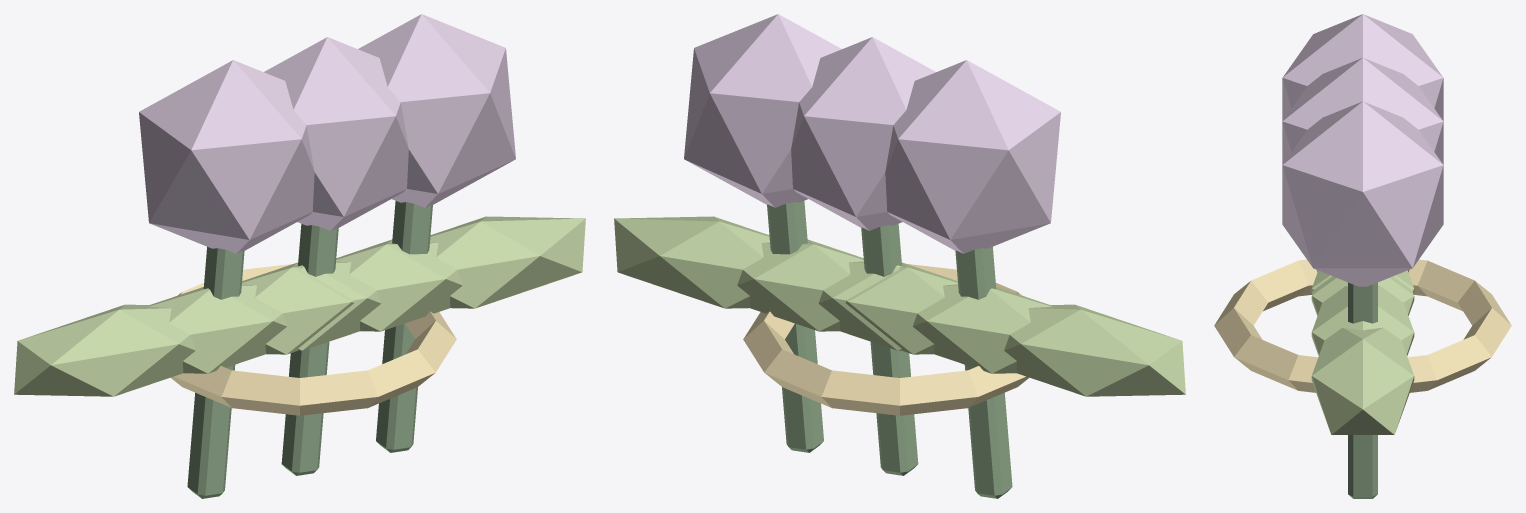
Rendered from cargo_catnip.fbx.
The picture shows the model from 3 angles, left to right: view 1: azimuth 30°, elevation 25°; view 2: azimuth 150°, elevation 25°; view 3: azimuth 270°, elevation 25°; orthographic projection. The views are drawn at different scales.
Parts seen in each view (by area): view 1: cargo_catnip_mesh; view 2: cargo_catnip_mesh; view 3: cargo_catnip_mesh.
Part boxes in pixels (x1,y1,x2,y2): cargo_catnip_mesh: (14,14,585,498); cargo_catnip_mesh: (614,14,1185,498); cargo_catnip_mesh: (1214,14,1511,498).
Size of the model in its own units: 0.7283 by 0.521 by 0.346.
